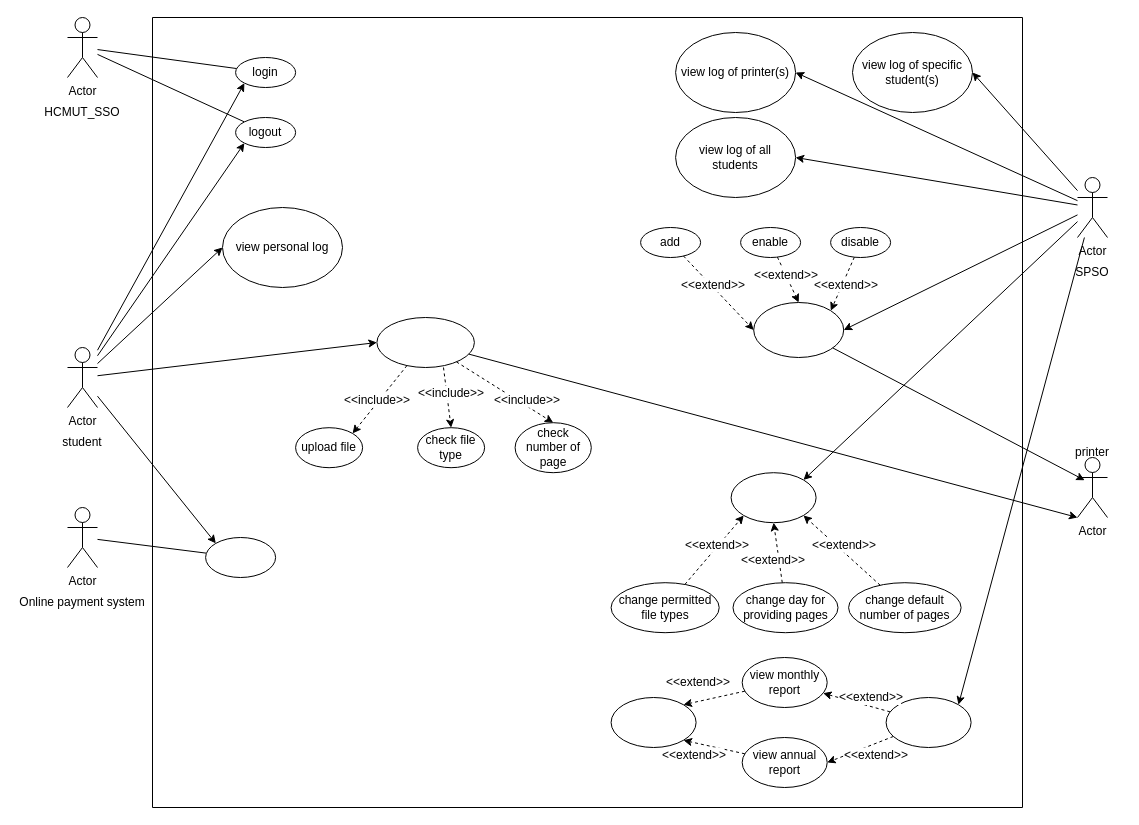
The diagram is 1139 pixels wide and 825 high, and some of its shapes have lost their labels. Here are the shapes that lost their labels. From the top down, the centre of each, then its label:
At point (425, 342): "print document".
At point (798, 330): "manage printer".
At point (773, 497): "manage configuration".
At point (240, 557): "buy pages".
At point (653, 722): "export report".
At point (928, 722): "view report".
